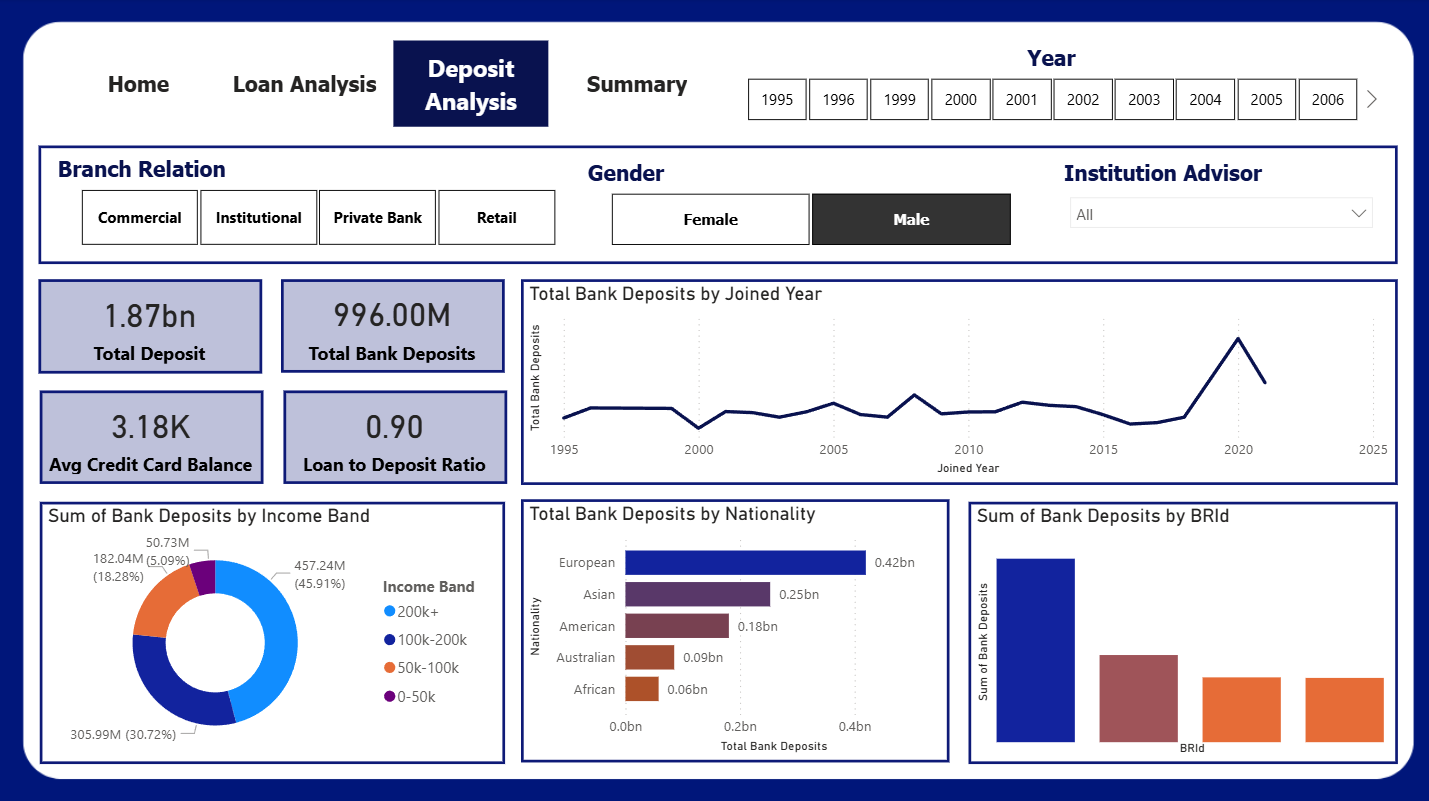

This screenshot's page, from the dashboard's own definition file:
{"tool":"powerbi","page":{"name":"Deposit Analysis","canvas":[1280,720],"ordinal":2},"visuals":[{"type":"shape","box":[37.5,131.3,1210.5,105.3],"z":0},{"type":"card","fields":{"Values":["Banking.Total Deposit"]},"box":[37.9,250.5,199.1,83.7],"z":1000},{"type":"card","fields":{"Values":["Banking.Loan to Deposit Ratio"]},"box":[255.5,349.7,199.1,83],"z":2000},{"type":"card","fields":{"Values":["Banking.Total Bank Deposits"]},"box":[254.3,250.5,199.1,83],"z":3000},{"type":"card","fields":{"Values":["Banking.Avg Credit Card Balance"]},"box":[39.1,349.7,199.1,83],"z":4000},{"type":"donutChart","fields":{"Category":["Banking.Income Band"],"Y":["Sum(Banking.Bank Deposits)"]},"box":[39.4,448.1,414.1,233.7],"z":5000},{"type":"clusteredColumnChart","fields":{"Category":["Banking.BRId"],"Y":["Sum(Banking.Bank Deposits)"]},"box":[866.1,448.1,382.3,233.7],"z":6000},{"type":"clusteredBarChart","fields":{"Category":["Banking.Nationality"],"Y":["Banking.Total Bank Deposits"]},"box":[467.5,446.6,381.6,234.4],"z":7000},{"type":"lineChart","fields":{"Category":["Banking.Joined Year"],"Y":["Banking.Total Bank Deposits"]},"box":[467.9,250.5,780.5,183.2],"z":8000},{"type":"slicer","title":"Institution Advisor","fields":{"Values":["Banking.IAId"]},"box":[946.5,144.3,290,82.2],"z":9000},{"type":"slicer","title":"Gender","fields":{"Values":["Banking.GenderId"]},"box":[522.3,144.3,405.4,82.2],"z":10000},{"type":"slicer","title":"Branch Relation","fields":{"Values":["Banking.BRId"]},"box":[50.5,141.4,471.8,85.1],"z":11000},{"type":"slicer","title":"Year","fields":{"Values":["Banking.Joined Year"]},"box":[643.5,41.8,593,73.6],"z":12000},{"type":"pageNavigator","box":[57.6,38,582.4,77.2],"z":13000}]}

Visuals, with their boxes in screenshot pixels (x1, y1, x2, y2), scaled from the page's 1280x720 canvas onto the 1429x801 screenshot:
shape: <box>42,146,1393,263</box>
card - Banking.Total Deposit: <box>42,279,265,372</box>
card - Banking.Loan to Deposit Ratio: <box>285,389,508,481</box>
card - Banking.Total Bank Deposits: <box>284,279,506,371</box>
card - Banking.Avg Credit Card Balance: <box>44,389,266,481</box>
donutChart - Banking.Income Band x Sum(Banking.Bank Deposits): <box>44,499,506,759</box>
clusteredColumnChart - Banking.BRId x Sum(Banking.Bank Deposits): <box>967,499,1394,759</box>
clusteredBarChart - Banking.Nationality x Banking.Total Bank Deposits: <box>522,497,948,758</box>
lineChart - Banking.Joined Year x Banking.Total Bank Deposits: <box>522,279,1394,482</box>
"Institution Advisor" slicer: <box>1057,161,1380,252</box>
"Gender" slicer: <box>583,161,1036,252</box>
"Branch Relation" slicer: <box>56,157,583,252</box>
"Year" slicer: <box>718,47,1380,128</box>
pageNavigator: <box>64,42,714,128</box>
